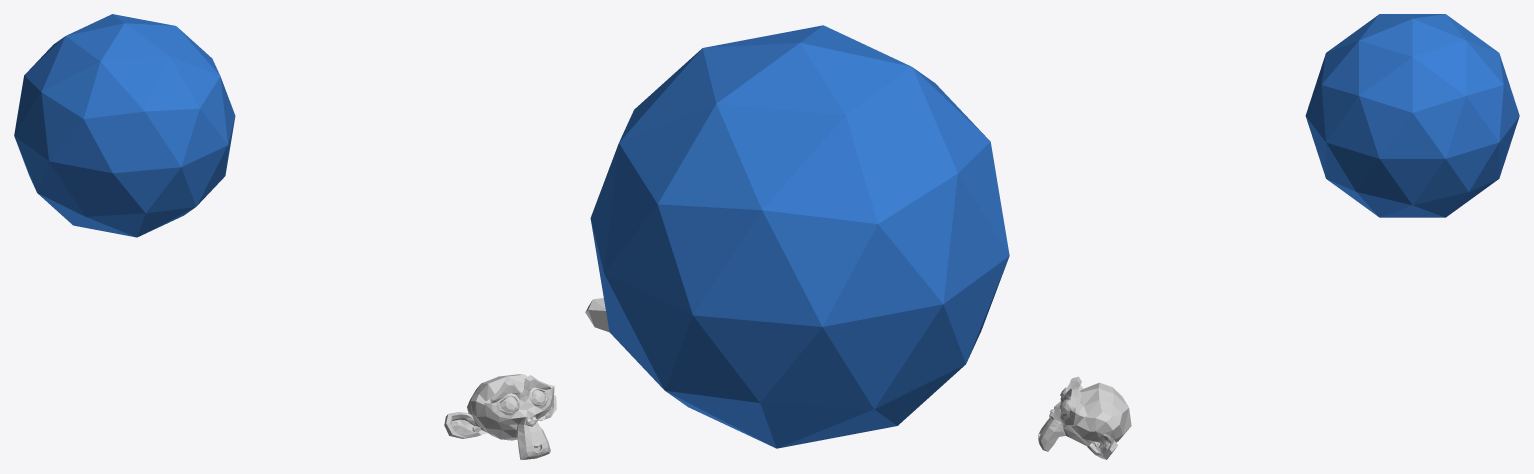
The picture shows the model from 3 angles, left to right: view 1: azimuth 30°, elevation 25°; view 2: azimuth 150°, elevation 25°; view 3: azimuth 270°, elevation 25°; orthographic projection. The views are drawn at different scales.
Parts seen in each view (by area): view 1: Icosphere, Suzanne; view 2: Icosphere, Suzanne; view 3: Icosphere, Suzanne.
Boxes of the visible parts, x1,y1,x2,y2 form: Icosphere: (14,14,235,237); Suzanne: (444,374,556,459); Icosphere: (590,25,1009,448); Suzanne: (585,298,609,332); Icosphere: (1305,14,1519,217); Suzanne: (1038,376,1131,459).
Size of the model in its own units: 3.73 by 4.5 by 3.38.
